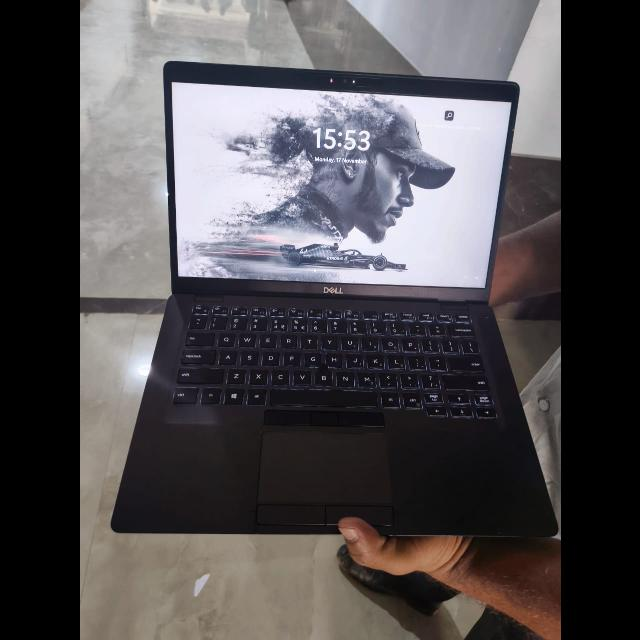laptop: (110, 59, 560, 542)
